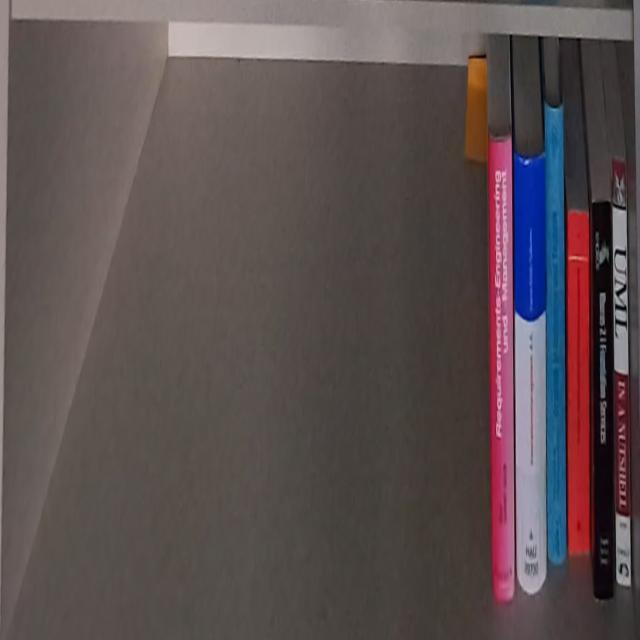Book Spine: (513, 146, 548, 598), (487, 133, 516, 608), (545, 101, 567, 571), (591, 201, 617, 597), (611, 161, 631, 587), (566, 213, 588, 554)
